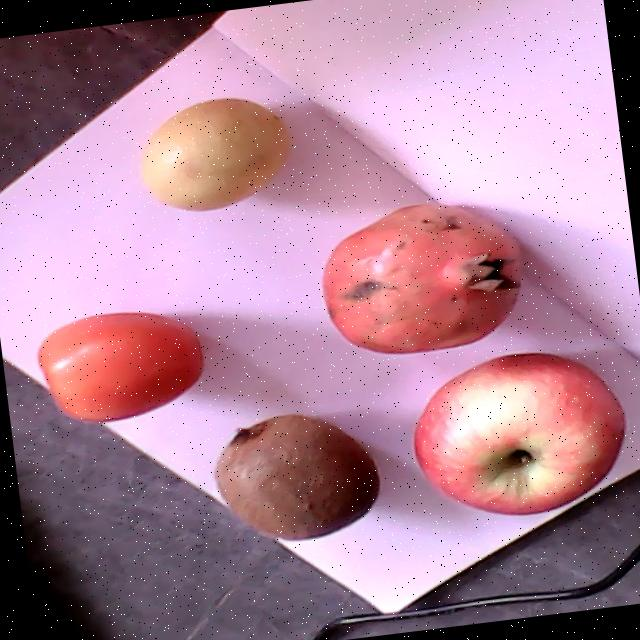apple: (412, 351, 625, 515)
kiwi: (213, 413, 381, 539)
lemon: (140, 98, 289, 210)
pomegranate: (321, 200, 524, 354)
tomato: (37, 311, 205, 420)
